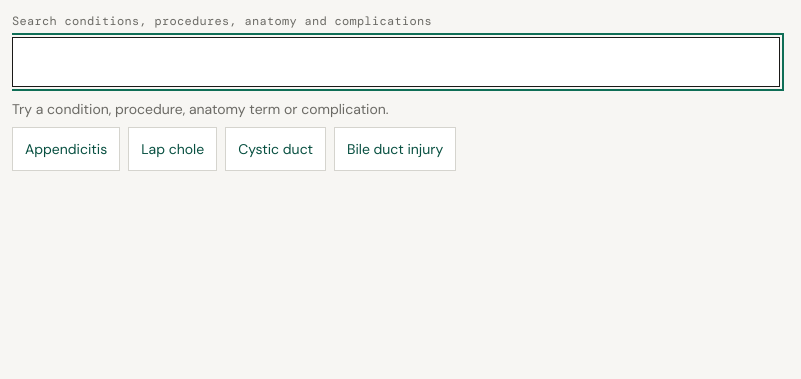
shows compact, labelled results with why they matched and review status
Type "lap chole" into the search field. click: (396, 62)
box: [13,38,779,86]
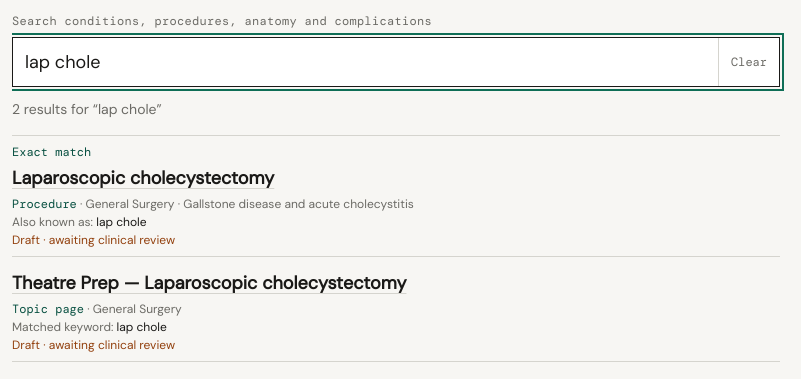
Check: the message reads "2 results for “lap chole”", box [12,100,162,118]
Check: the list item that starts with "Exact match" is shown, box [12,144,91,160]
Check: the list item that starts with "Exact match" shows "Procedure · General Surgery · Gallstone disease and acute cholecystitis", box [12,136,780,257]
